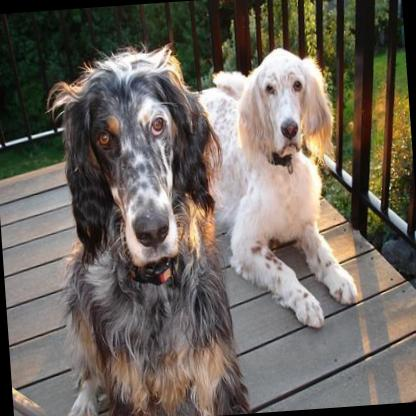English_setter: (40, 42, 245, 416), (192, 41, 360, 334)
